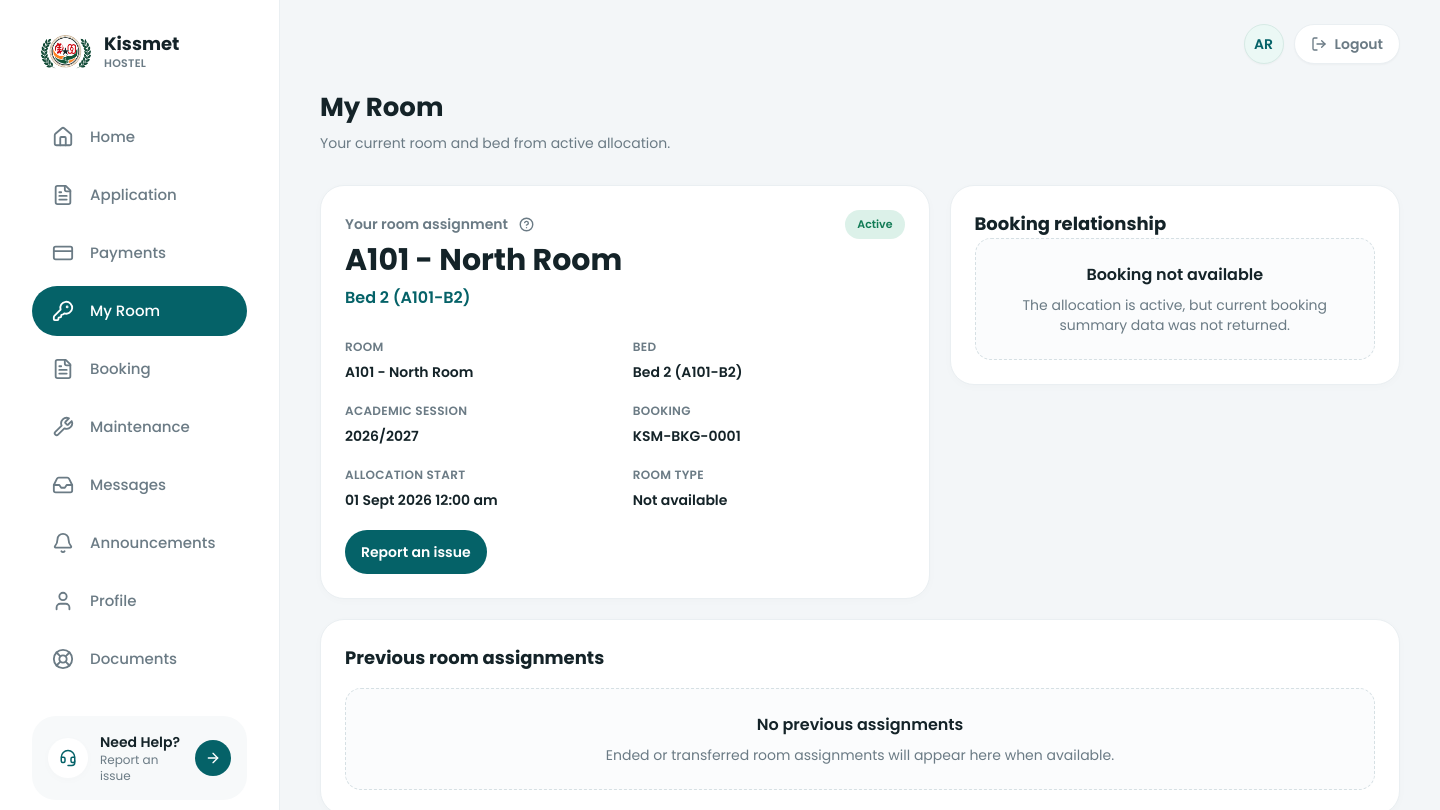
resident maintenance › links from My Room report action without creating a request automatically
Click the link "Report an issue".
click(416, 552)  # box [345,530,487,574]
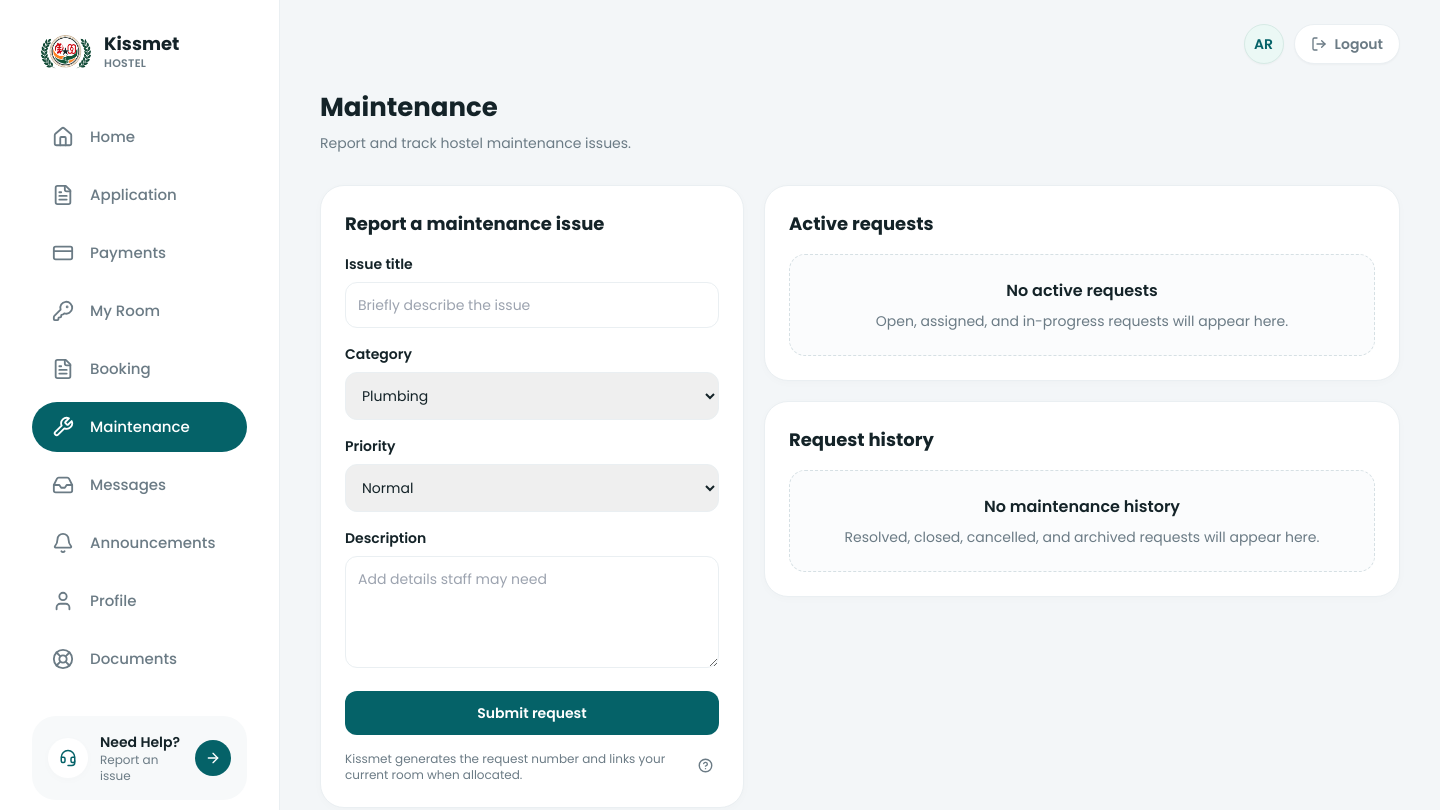
Result: the heading "Maintenance" is shown at [320,89,498,125]
